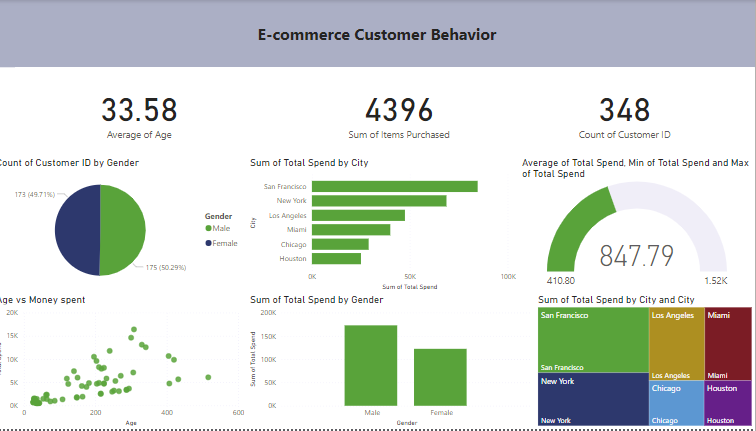

The dashboard page shown, as its layout file describes it:
{"tool":"powerbi","page":{"name":"Page 1","canvas":[1280,720],"ordinal":0},"visuals":[{"type":"textbox","box":[10.1,0,1269.9,112.5],"z":0},{"type":"pieChart","fields":{"Category":["segmented_customers (python).Gender"],"Y":["CountNonNull(segmented_customers (python).Customer ID)"]},"box":[0,262,426.7,230.1],"z":1000},{"type":"gauge","fields":{"MinValue":["Min(segmented_customers (python).Total Spend)"],"MaxValue":["Max(segmented_customers (python).Total Spend)"],"Y":["Avg(segmented_customers (python).Total Spend)"]},"box":[883.6,262,396.4,230.1],"z":2000},{"type":"card","fields":{"Values":["Avg(segmented_customers (python).Age)"]},"box":[37,112.5,416.6,149.5],"z":3000},{"type":"card","fields":{"Values":["Sum(segmented_customers (python).Items Purchased)"]},"box":[453.5,112.5,456.9,149.5],"z":4000},{"type":"card","fields":{"Values":["CountNonNull(segmented_customers (python).Customer ID)"]},"box":[841.6,112.5,438.4,149.5],"z":5000},{"type":"columnChart","fields":{"Category":["segmented_customers (python).Gender"],"Y":["Sum(segmented_customers (python).Total Spend)"]},"box":[426.7,492.2,483.8,228.5],"z":6000},{"type":"barChart","fields":{"Category":["segmented_customers (python).City"],"Y":["Sum(segmented_customers (python).Total Spend)"]},"box":[426.7,262,456.9,230.1],"z":7000},{"type":"scatterChart","title":"Age vs Money spent","fields":{"X":["Sum(segmented_customers (python).Age)"],"Y":["Sum(segmented_customers (python).Total Spend)"],"Category":["segmented_customers (python).Total Spend"]},"box":[0,492,427,228],"z":8000},{"type":"treemap","fields":{"Group":["segmented_customers (python).City"],"Details":["segmented_customers (python).City"],"Values":["Sum(segmented_customers (python).Total Spend)"]},"box":[911,492,369,228],"z":9000}]}

Visuals, with their boxes in screenshot pixels (x1, y1, x2, y2), scaled from the page's 1280x720 canvas onto the 756x431 screenshot:
textbox: (x1=6, y1=0, x2=755, y2=67)
pieChart - segmented_customers (python).Gender x CountNonNull(segmented_customers (python).Customer ID): (x1=0, y1=157, x2=252, y2=295)
gauge - Min(segmented_customers (python).Total Spend) x Max(segmented_customers (python).Total Spend): (x1=522, y1=157, x2=755, y2=295)
card - Avg(segmented_customers (python).Age): (x1=22, y1=67, x2=268, y2=157)
card - Sum(segmented_customers (python).Items Purchased): (x1=268, y1=67, x2=538, y2=157)
card - CountNonNull(segmented_customers (python).Customer ID): (x1=497, y1=67, x2=755, y2=157)
columnChart - segmented_customers (python).Gender x Sum(segmented_customers (python).Total Spend): (x1=252, y1=295, x2=538, y2=430)
barChart - segmented_customers (python).City x Sum(segmented_customers (python).Total Spend): (x1=252, y1=157, x2=522, y2=295)
"Age vs Money spent" scatterChart: (x1=0, y1=295, x2=252, y2=430)
treemap - segmented_customers (python).City x segmented_customers (python).City: (x1=538, y1=295, x2=755, y2=430)
